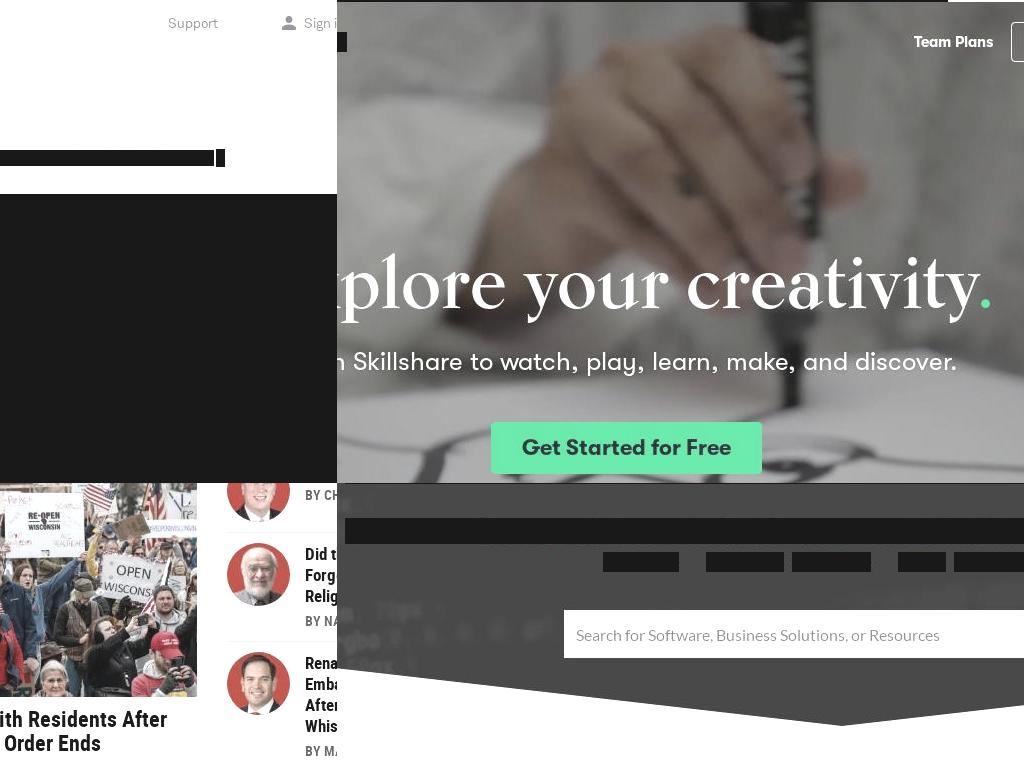button: (0, 483, 197, 697), (491, 422, 763, 474), (226, 543, 290, 606), (226, 652, 290, 715), (226, 483, 290, 522)
field: (565, 611, 1024, 658)
heading: (337, 238, 977, 325), (337, 346, 1024, 378), (345, 518, 1024, 544), (0, 706, 168, 755), (976, 238, 994, 325)
image: (337, 2, 1024, 483), (0, 194, 337, 483), (0, 483, 197, 697), (226, 543, 290, 606), (226, 652, 290, 715), (226, 483, 290, 522), (337, 36, 347, 49)
link: (226, 483, 284, 768), (304, 651, 337, 737), (304, 542, 337, 607), (706, 552, 784, 572), (914, 33, 993, 51), (216, 149, 225, 167)
text: (15, 150, 123, 166), (792, 552, 871, 572), (603, 552, 679, 572), (954, 552, 1024, 572), (129, 150, 214, 166), (898, 552, 946, 572), (122, 150, 130, 166)
